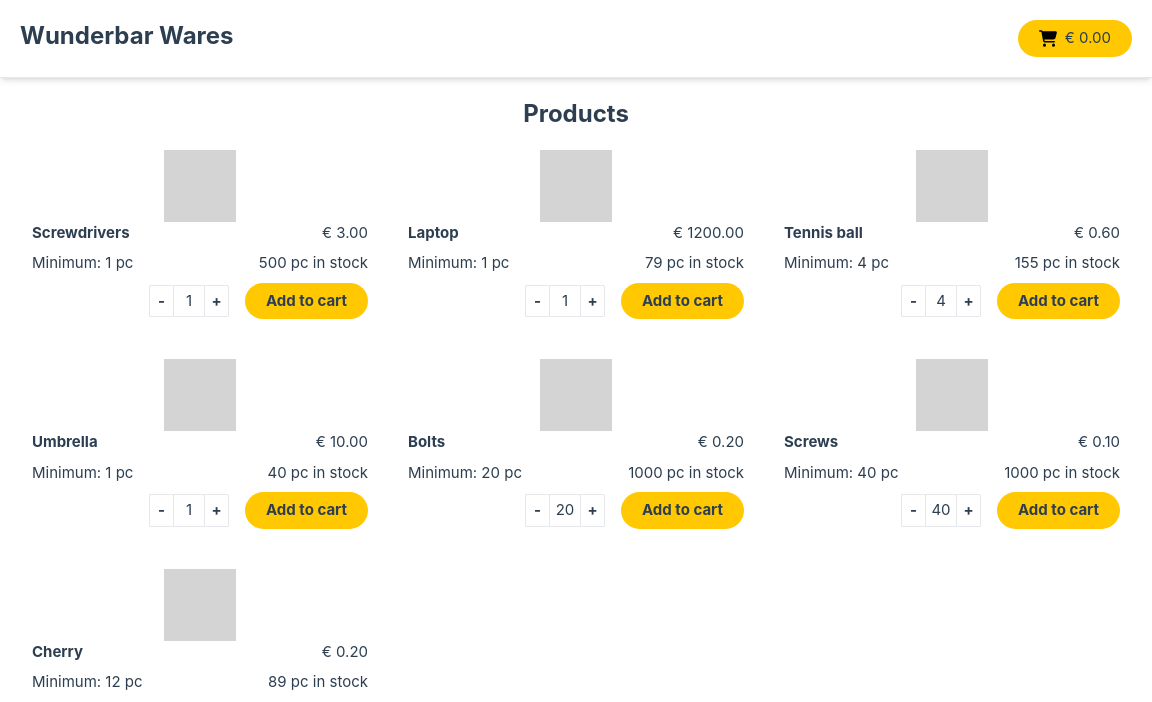
it: Products › changes total in cart
Click the button "Add to cart" below "500 pc in stock": [307, 302] box [245,283,368,320]
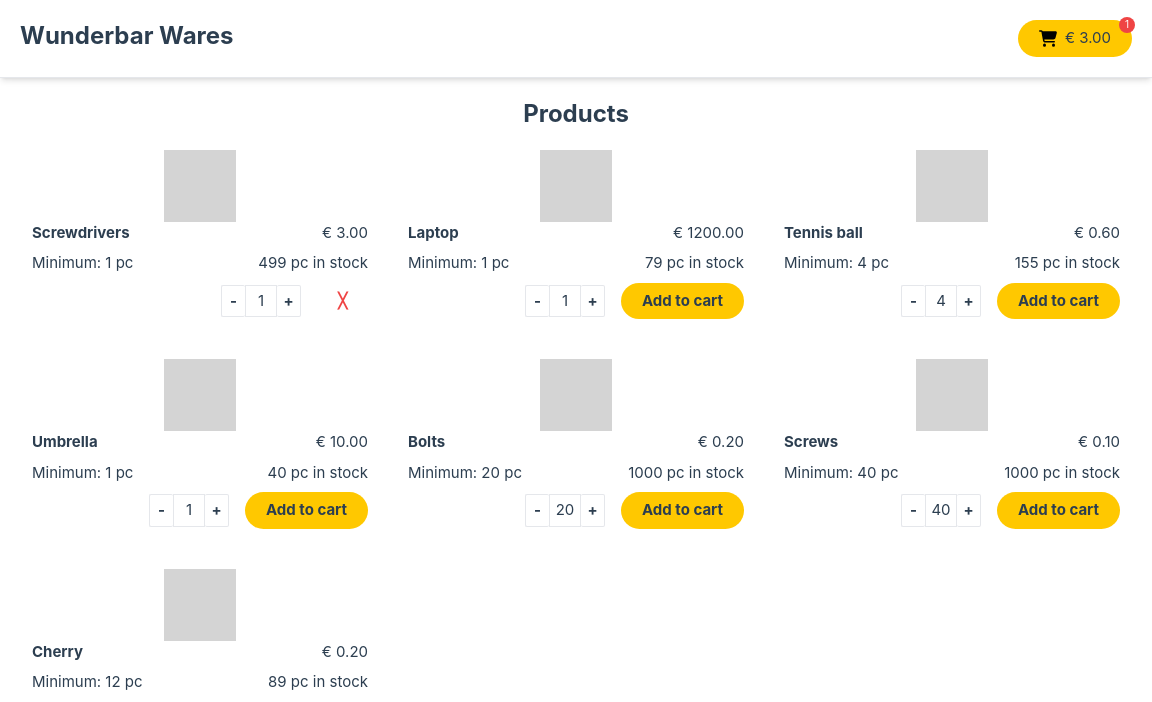
Click the button with class "touchspin-button-add" below "499 pc in stock": [289, 302] box [277,285,301,318]
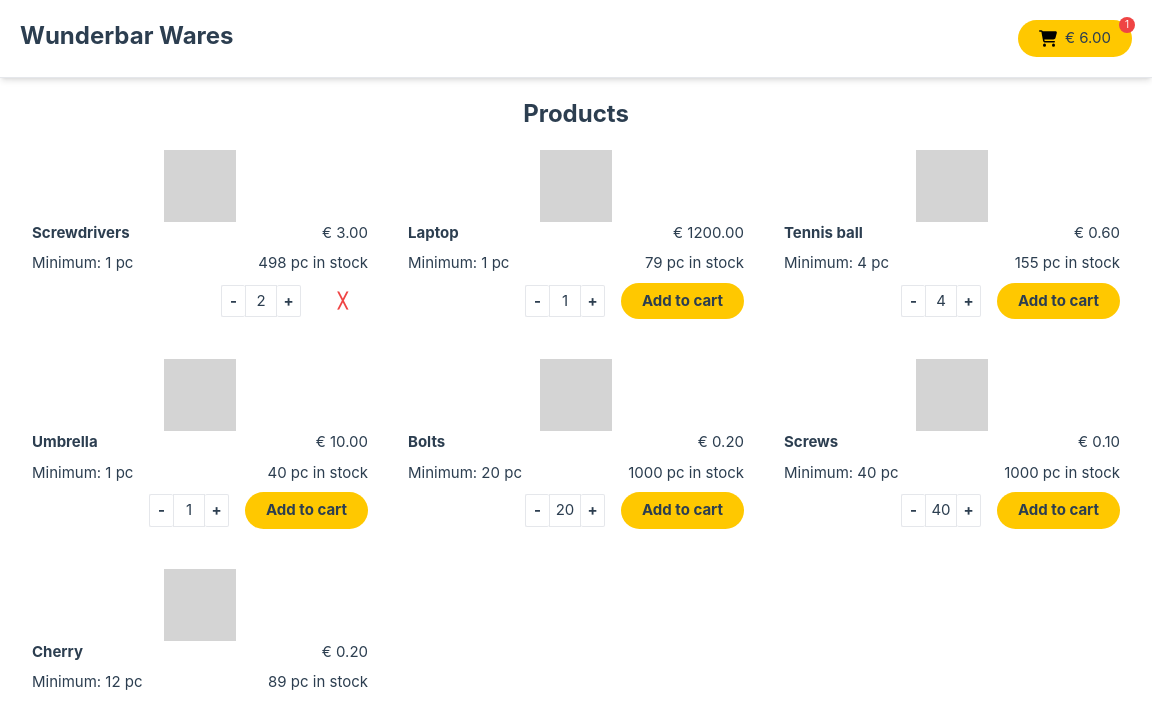
Now the link "€ 6.00 1" is shown, box [1018,20,1132,56]
